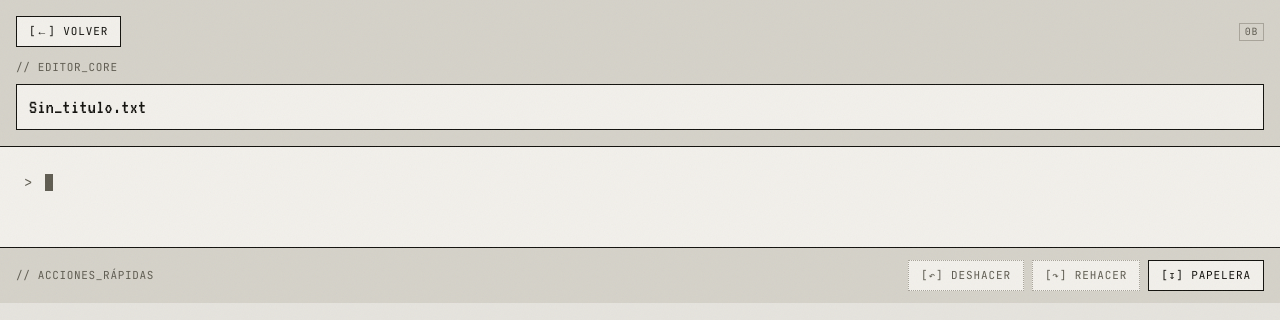
it: NoteEditor · comandos › un comando desconocido responde y no rompe nada
Type "//naoperandi" into the text box named "contenido".
click(644, 194); type("//naoperandi")  # box [24, 171, 1264, 216]
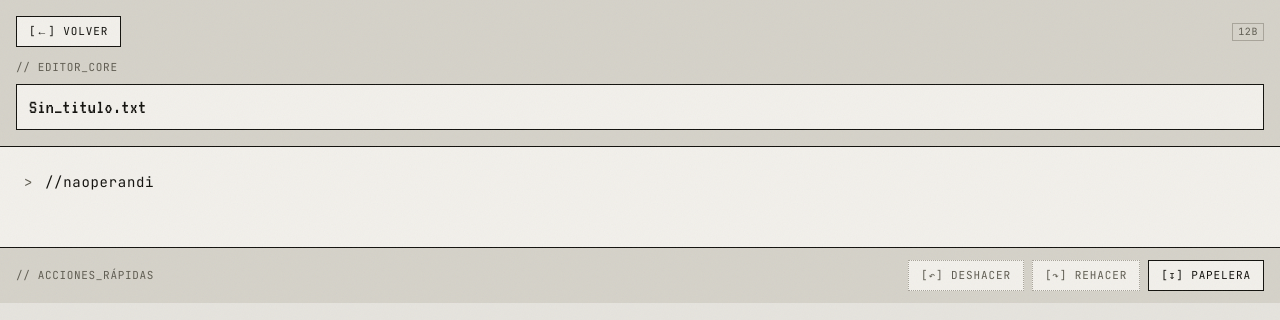
Press Enter in the text box named "contenido", box [24, 171, 1264, 216]
Wait 900 ms
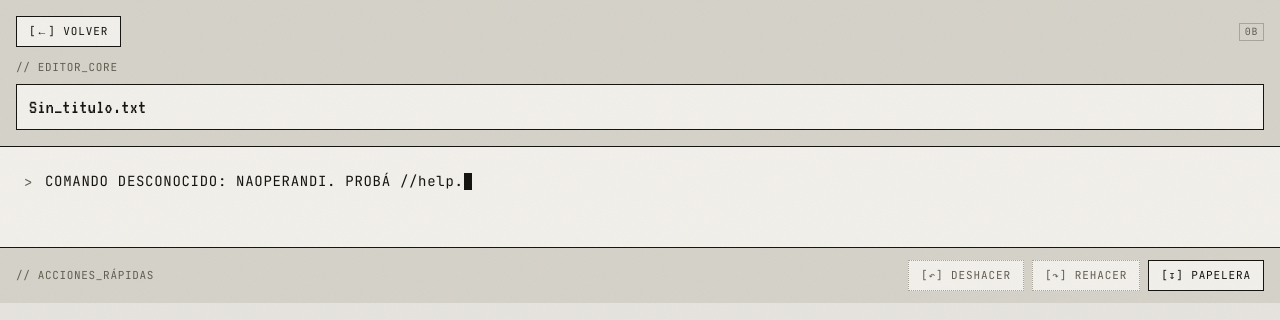
Now the text "COMANDO DESCONOCIDO: NAOPERANDI. PROBÁ //help." is shown, box [45, 172, 472, 190]
